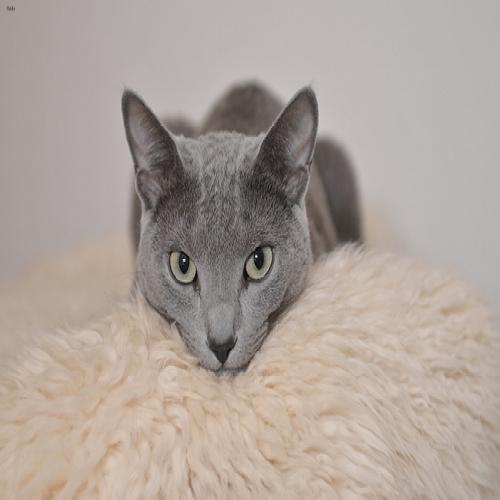rblue: (108, 69, 334, 400)
